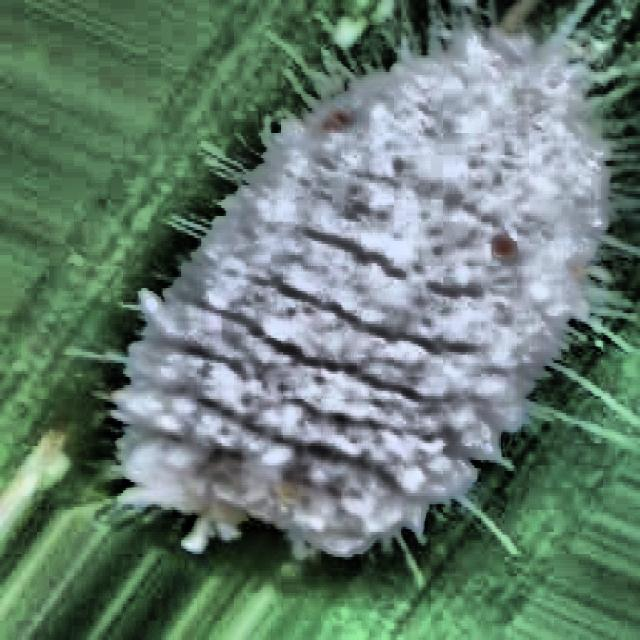Mealy-bug: (25, 6, 621, 633)
